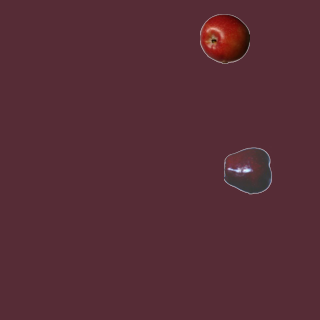Apple Braeburn: (199, 13, 249, 63)
Apple Red Delicious: (223, 145, 273, 195)
